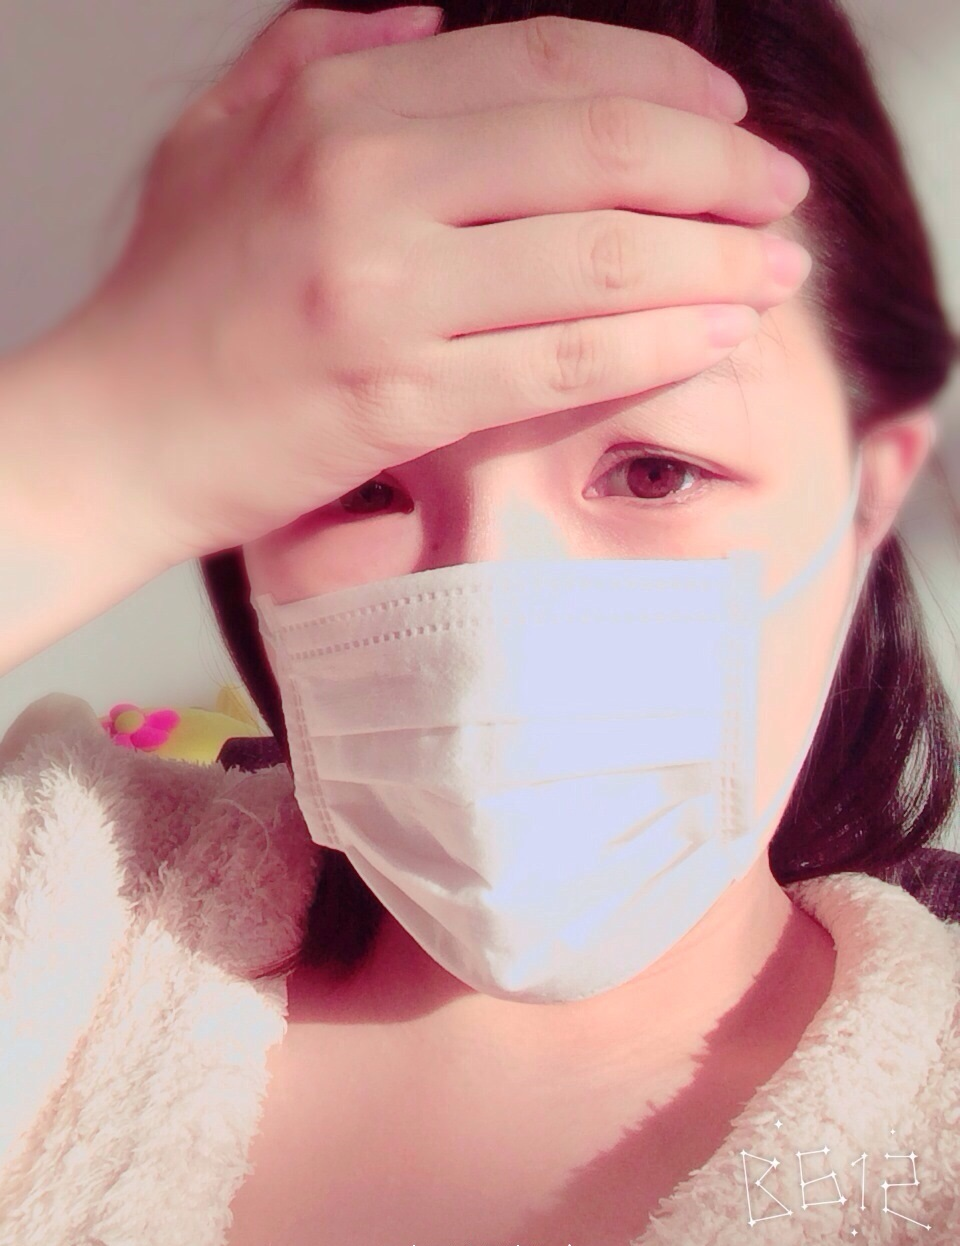face_mask: (254, 186, 841, 988)
